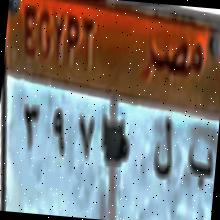3: (18, 100, 44, 160)
7: (74, 115, 99, 160)
9: (45, 108, 70, 161)
baa: (184, 137, 216, 192)
laam: (149, 111, 180, 187)
